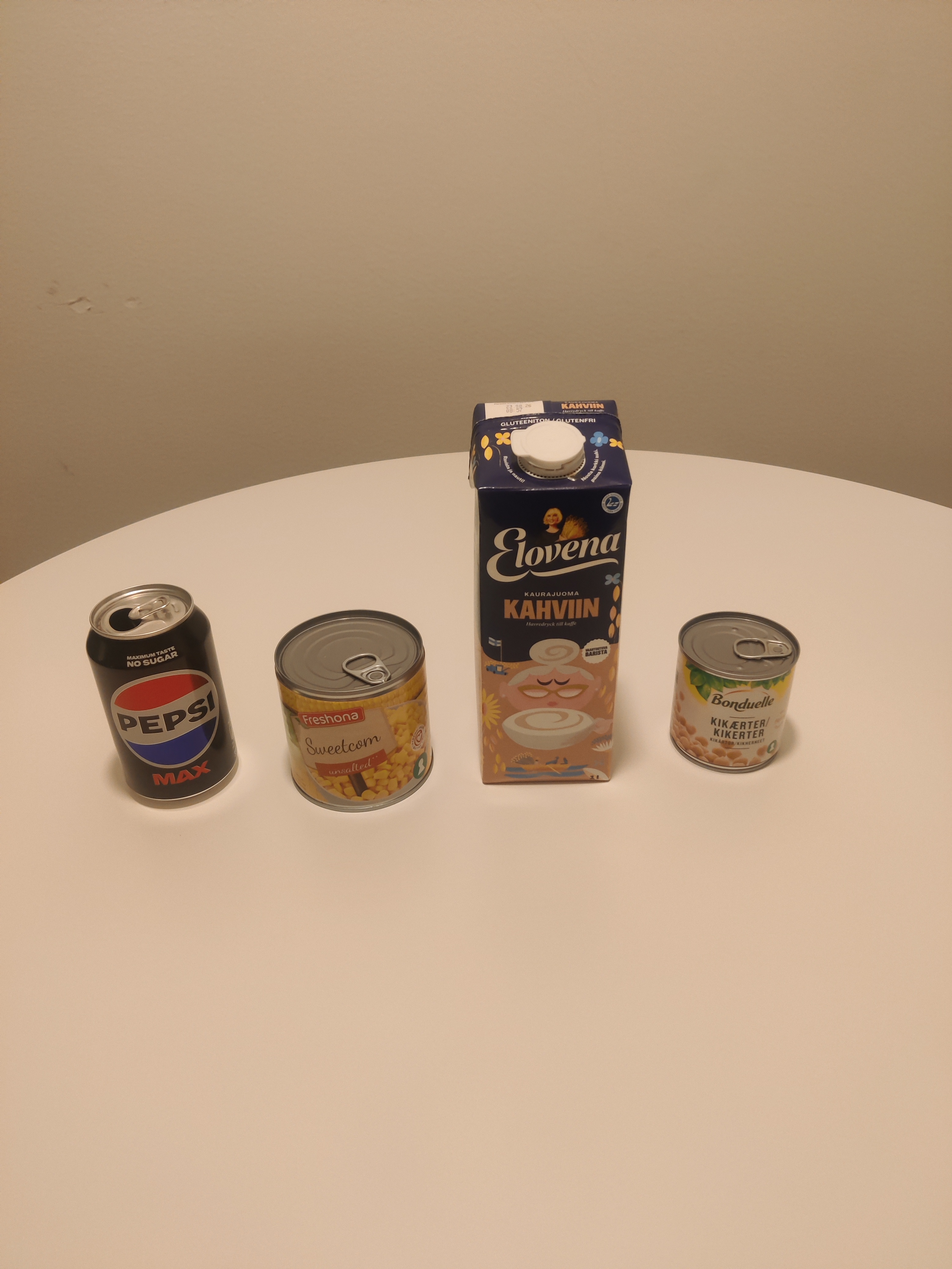Dryckeskartong: (471, 396, 634, 785)
Konservburk: (275, 609, 434, 812), (670, 611, 802, 774)
Pantburk: (84, 584, 238, 807)
